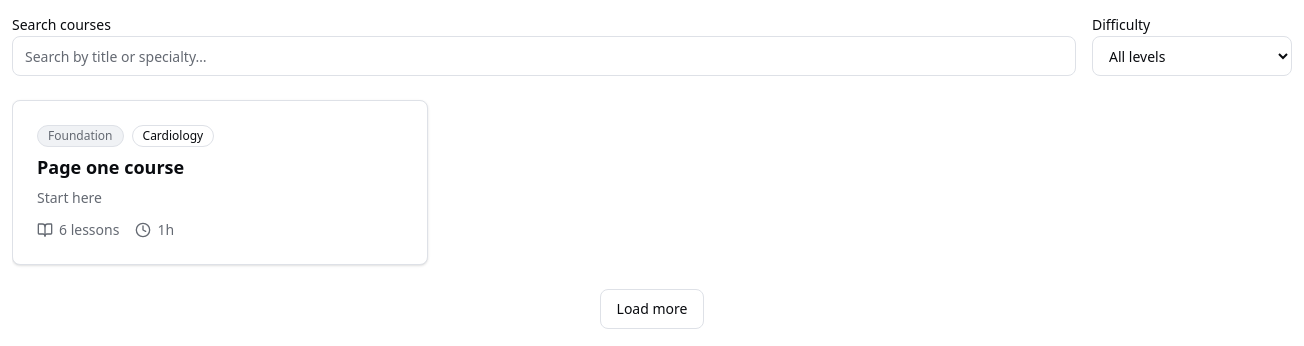
CourseCatalogue › loads the next page using the cursor from the previous one
Click the button "Load more": (652, 309) [600,289,704,329]
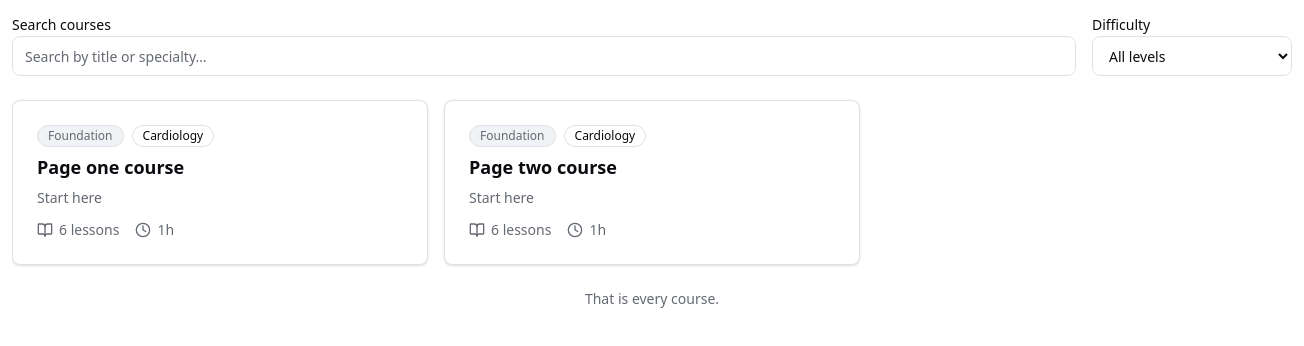
Expected: the heading "Page one course" is shown, [37,155,184,179]
Expected: the heading "Page two course" is shown, [469,155,617,179]
